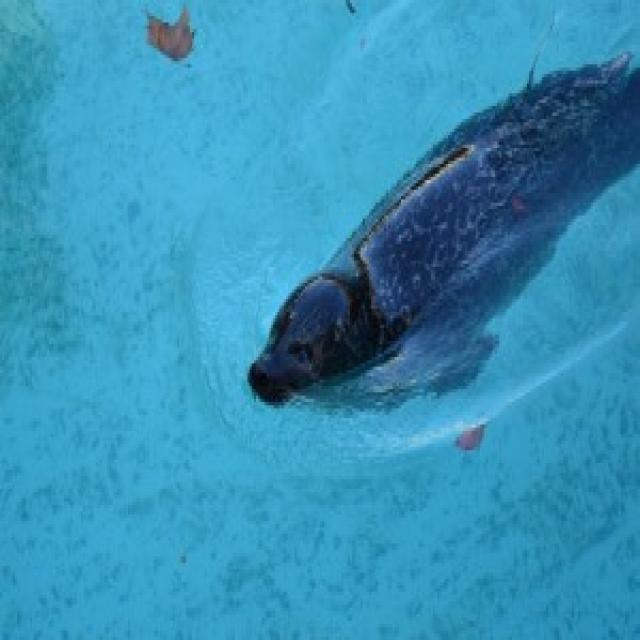Seal: (244, 32, 640, 436)
